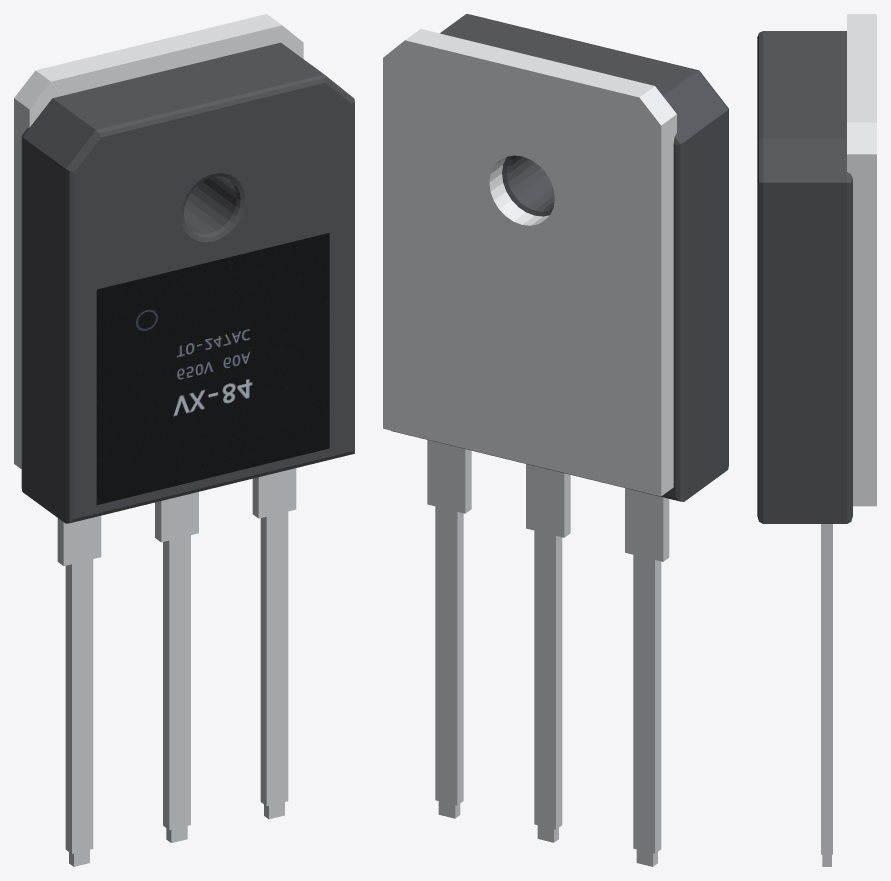
File: polovodic.glb
3 renders of one model, left to right at view 1: azimuth 30°, elevation 25°; view 2: azimuth 150°, elevation 25°; view 3: azimuth 270°, elevation 25°, orthographic. The views are drawn at different scales.
Parts seen in each view (by area): view 1: Epoxy_Package_Body, Laser_Marking_Plane, Nickel_Backplate_Heatsink, Pin_1, Pin_3, Pin_2; view 2: Nickel_Backplate_Heatsink, Epoxy_Package_Body, Pin_3, Pin_2, Pin_1; view 3: Epoxy_Package_Body, Nickel_Backplate_Heatsink, Pin_3.
Part boxes in pixels (x1,y1,x2,y2): Epoxy_Package_Body: [21, 42, 354, 523]; Laser_Marking_Plane: [96, 233, 329, 504]; Nickel_Backplate_Heatsink: [14, 14, 303, 468]; Pin_1: [57, 515, 101, 866]; Pin_3: [252, 468, 296, 819]; Pin_2: [155, 492, 198, 842]; Nickel_Backplate_Heatsink: [383, 29, 676, 496]; Epoxy_Package_Body: [391, 14, 728, 501]; Pin_3: [427, 440, 471, 818]; Pin_2: [526, 464, 570, 842]; Pin_1: [625, 488, 669, 866]; Epoxy_Package_Body: [757, 31, 852, 523]; Nickel_Backplate_Heatsink: [847, 14, 876, 506]; Pin_3: [821, 524, 832, 866].
Size of the model in its own units: 0.0161 by 0.0415 by 0.00601.
Materials: 5 (1 with a texture image).
